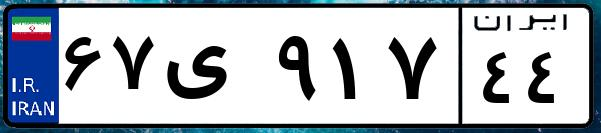1: (330, 28, 385, 110)
4: (475, 38, 525, 113), (525, 38, 570, 115)
6: (57, 26, 110, 100)
7: (385, 28, 445, 110), (110, 28, 158, 98)
9: (270, 28, 330, 110)
ی: (158, 20, 270, 120)
